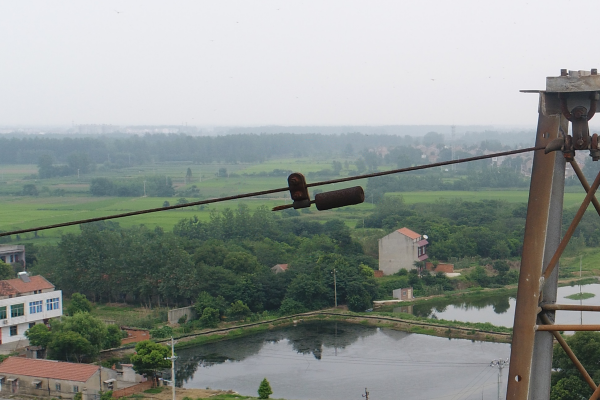damper_defect: (268, 170, 366, 213)
